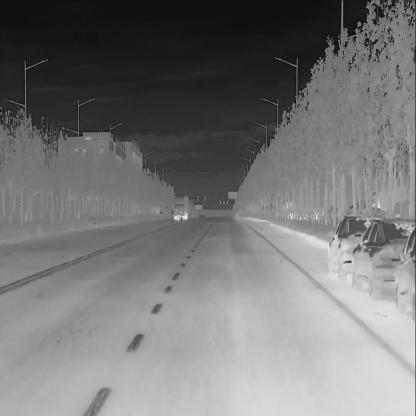car: (349, 219, 411, 300), (327, 214, 387, 283), (392, 218, 415, 319)
truck: (172, 193, 188, 221)
